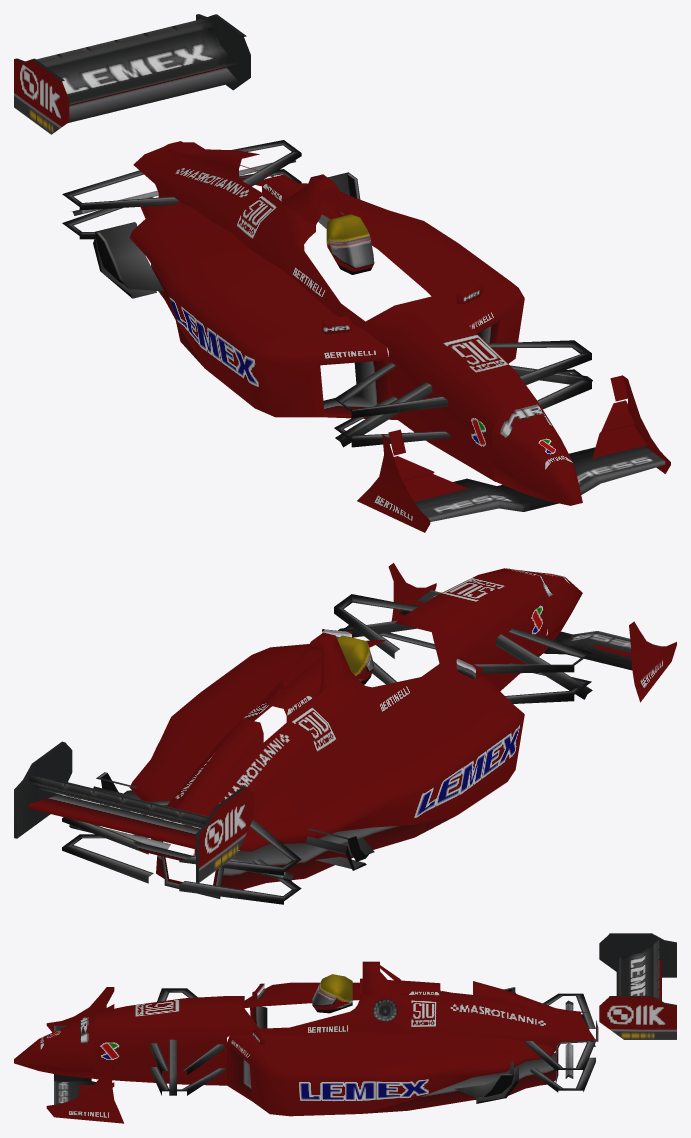
The model's file is car-HSPC_Car24.glb.
3 views of the same model, one above another, from view 1: azimuth 30°, elevation 25°; view 2: azimuth 150°, elevation 25°; view 3: azimuth 270°, elevation 25° (orthographic). The views are drawn at different scales.
Parts seen in each view (by area): view 1: HSPC_Car24; view 2: HSPC_Car24; view 3: HSPC_Car24.
Part boxes in pixels (x1,y1,x2,y2): HSPC_Car24: (14,14,670,532); HSPC_Car24: (14,563,676,904); HSPC_Car24: (14,933,676,1123).
Size of the model in its own units: 1.68 by 0.9141 by 4.84.
5 materials, 5 textured.
